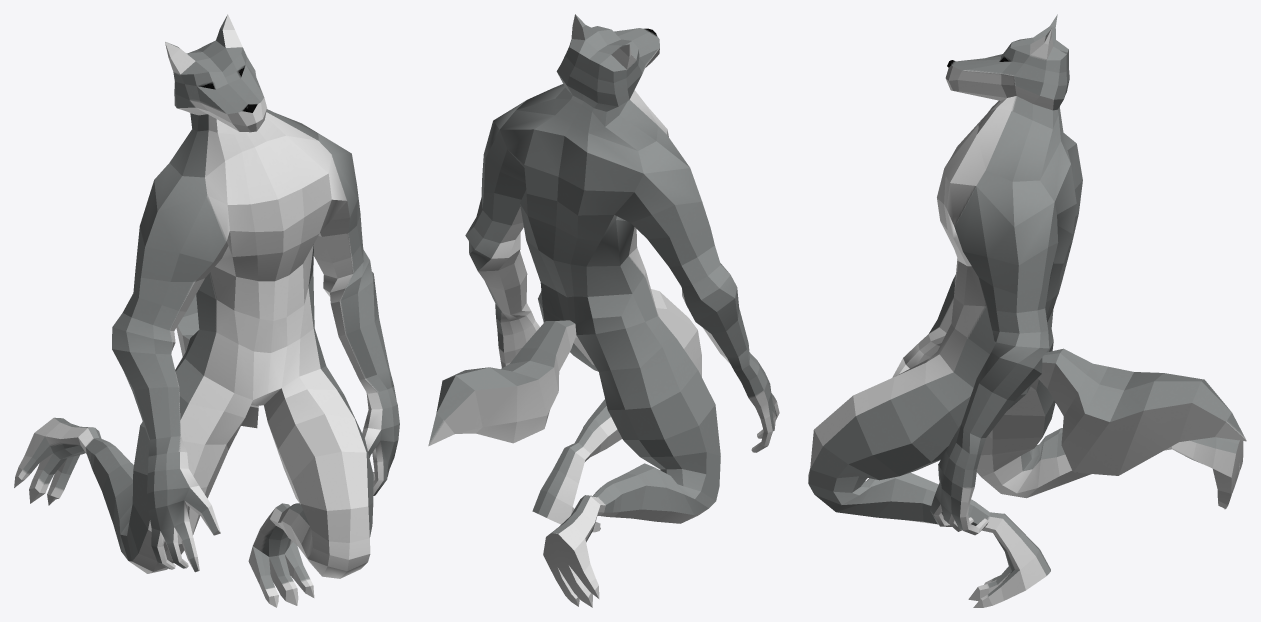
The model's file is WolfDead(26).obj.
3 views of the same model, side by side, from view 1: azimuth 30°, elevation 25°; view 2: azimuth 150°, elevation 25°; view 3: azimuth 270°, elevation 25° (orthographic). The views are drawn at different scales.
Visible parts, largest first — view 1: Box001; view 2: Box001; view 3: Box001.
Part boxes in pixels (x1,y1,x2,y2): Box001: (14,14,399,607); Box001: (428,14,779,607); Box001: (808,14,1246,607).
Bounding box in the file's own units: 64.6 × 130 × 92.22.
